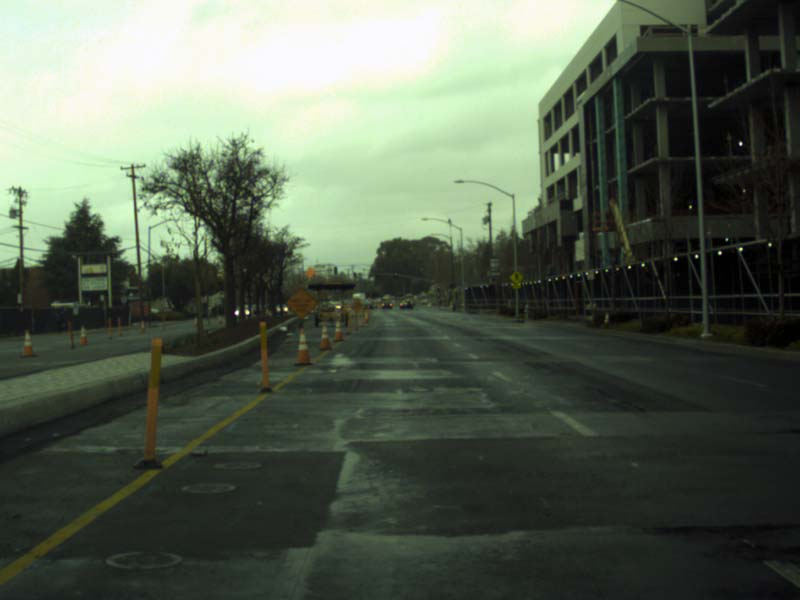Green: (353, 272, 355, 278)
Red: (376, 271, 378, 278), (437, 285, 439, 291), (394, 272, 396, 278)
